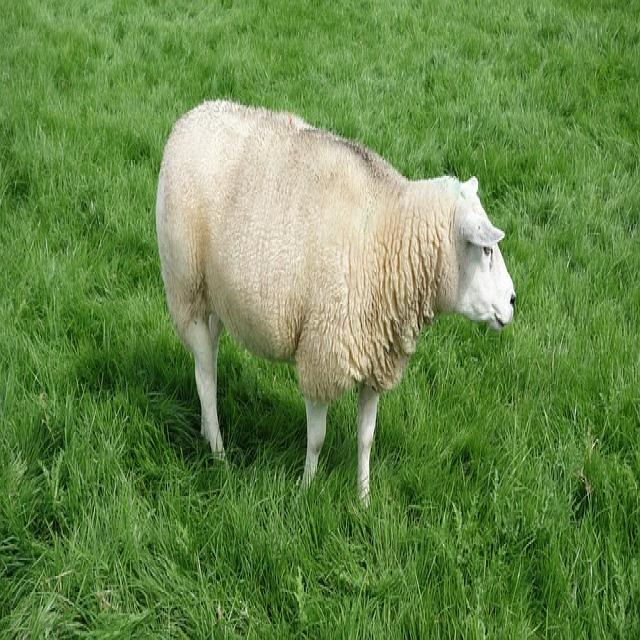goat: (154, 100, 516, 505)
